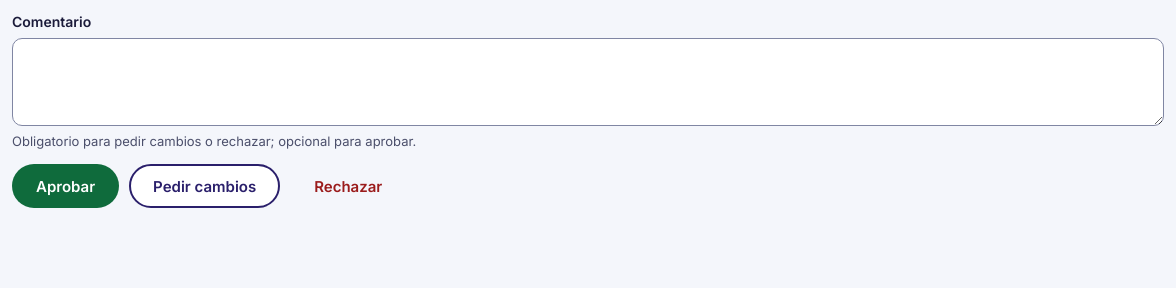
Test case: DecisionForm › envía la decisión con el comentario cuando se escribe
Later steps or results of the test are not shown.
Step 1. Click the button "Rechazar" → [348, 186], box [290, 164, 406, 208]
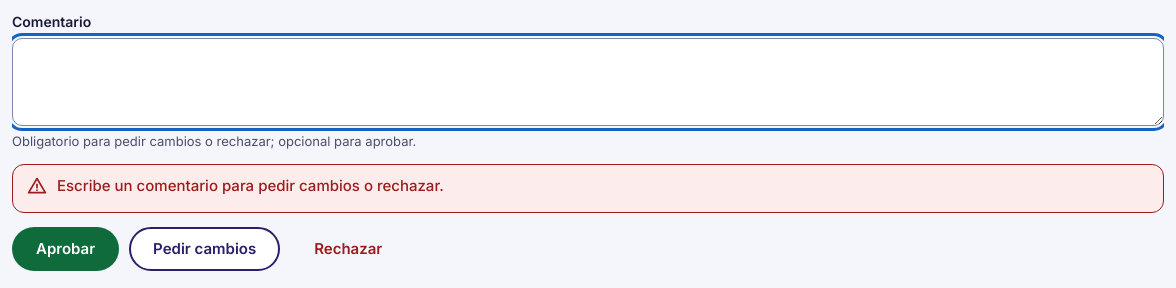
Step 2. Type "Falta el criterio de límites" into the text box labelled "Comentario" → [588, 82], box [12, 38, 1164, 126]
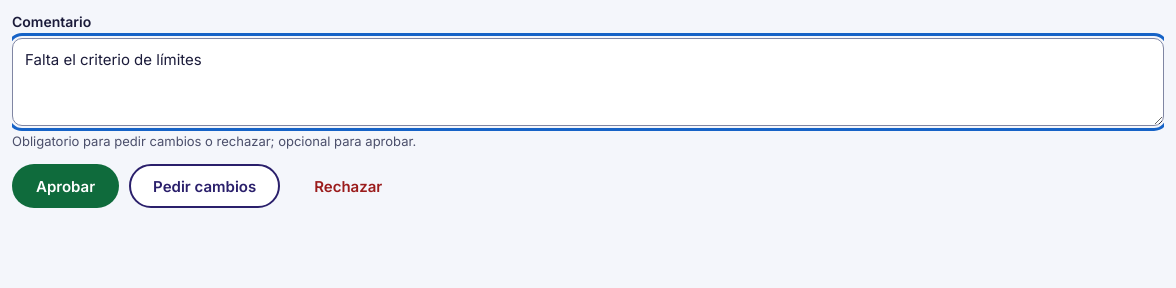
expect the message "Escribe un comentario para pedir cambios o rechazar." is gone: met
